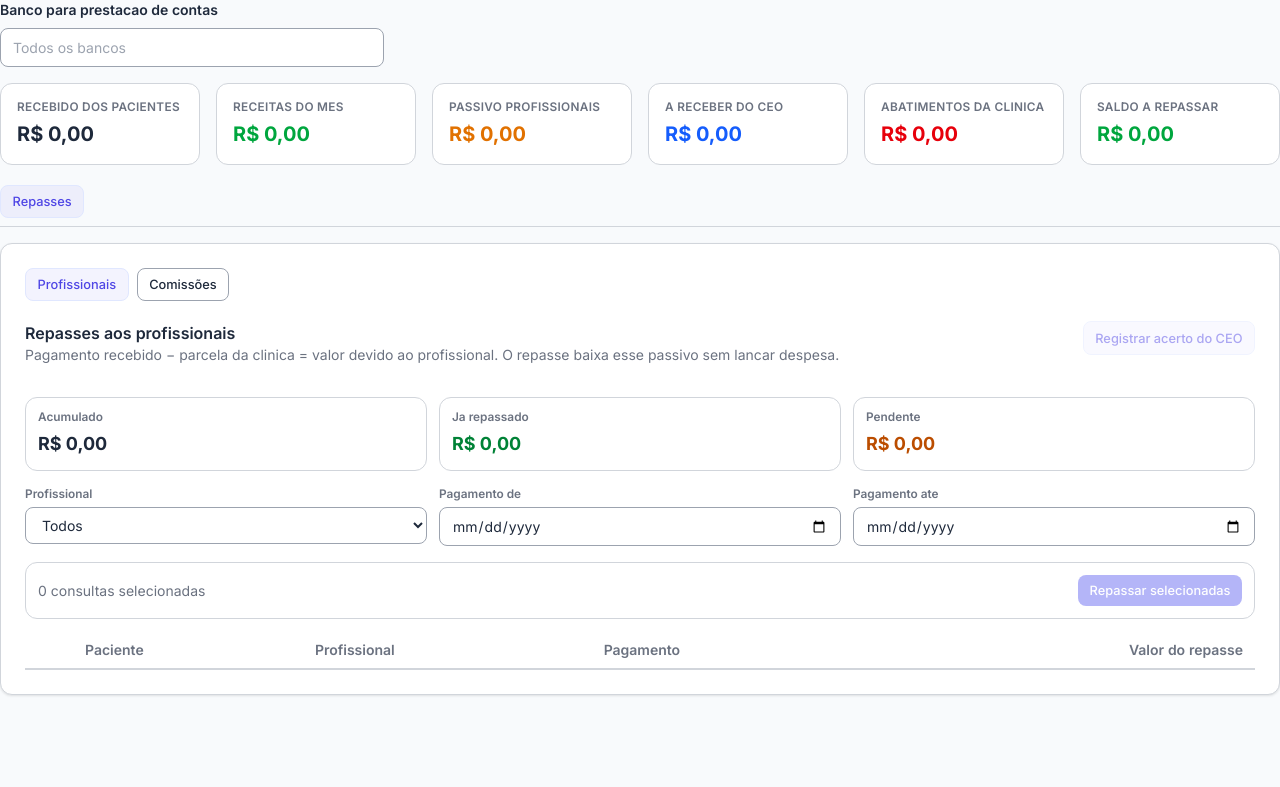
Scenario: opens commissions inside settlements and preserves professional settlements
This screenshot has width=1280, height=787.
Check: the heading "Repasses aos profissionais" is shown, box [25, 324, 235, 344]
Click the button "Comissões": (183, 285) [137, 268, 229, 301]
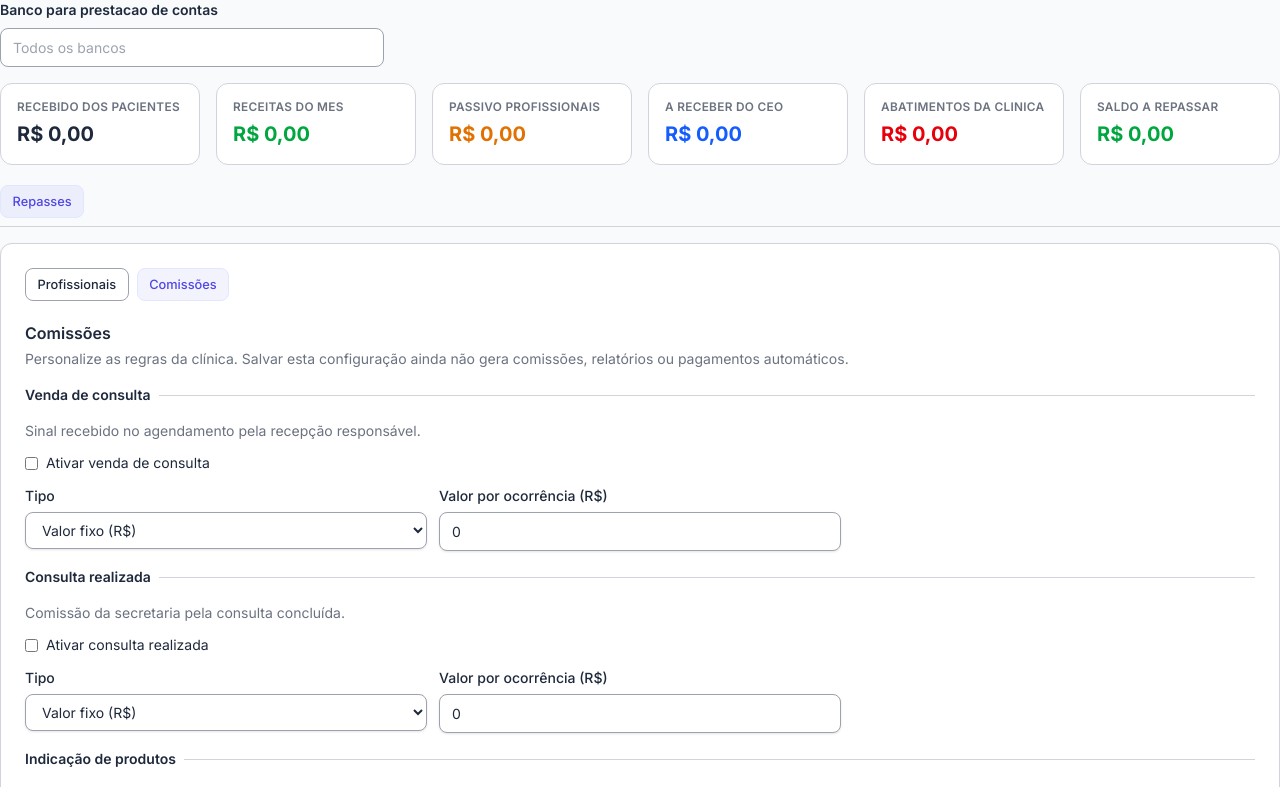
Check: the text "Venda de consulta" is shown, box [25, 386, 158, 406]
Check: the text "Consulta realizada" is shown, box [25, 568, 159, 588]
Check: the text "Indicação de produtos" is shown, box [25, 750, 184, 770]
Click the button "Profissionais": (77, 285) [25, 268, 129, 301]
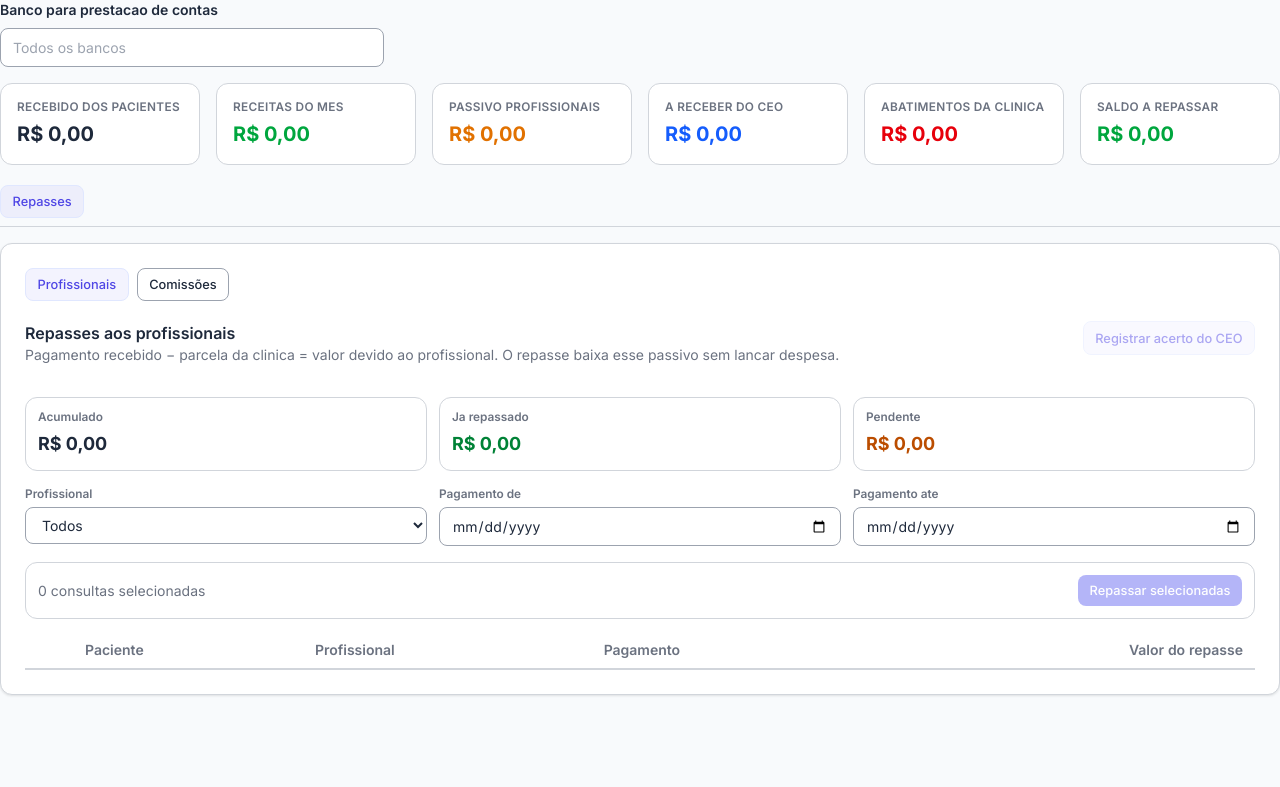
Check: the heading "Repasses aos profissionais" is shown, box [25, 324, 235, 344]
